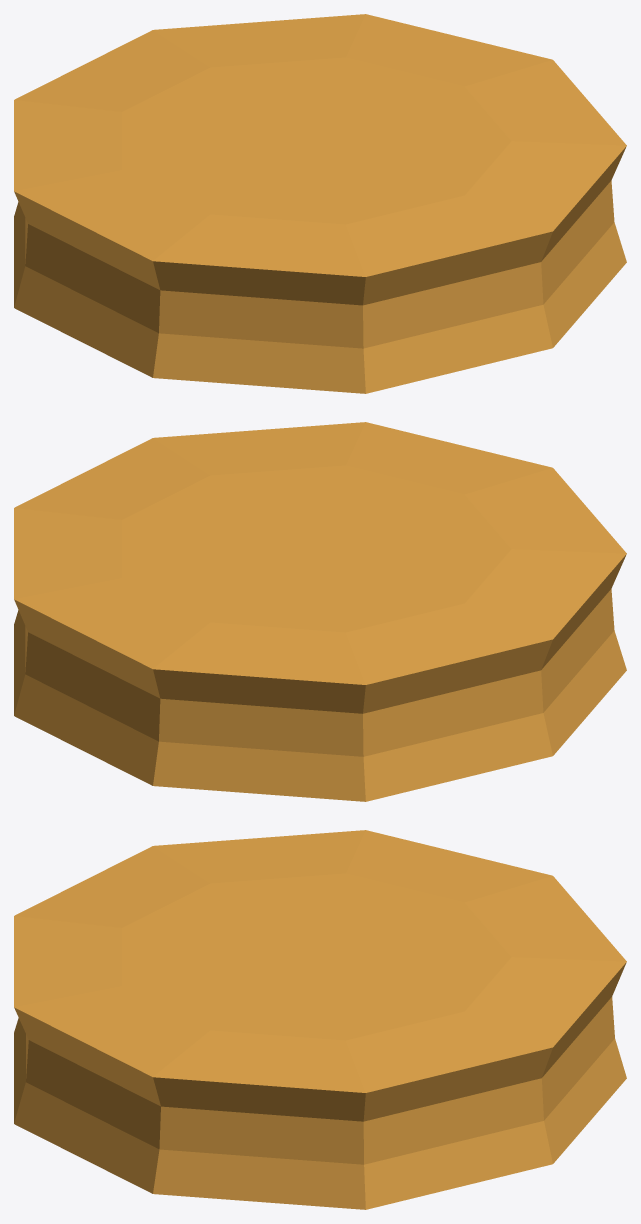
The model's file is food-cookie-oreo.glb.
3 views of the same model, one above another, from view 1: azimuth 30°, elevation 25°; view 2: azimuth 150°, elevation 25°; view 3: azimuth 270°, elevation 25° (orthographic).
Visible parts, largest first — view 1: cookie-oreo; view 2: cookie-oreo; view 3: cookie-oreo.
Part boxes in pixels (<box>): cookie-oreo: <box>14,14,626,393</box>; cookie-oreo: <box>14,422,626,801</box>; cookie-oreo: <box>14,830,626,1209</box>.
Bounding box in the file's own units: 0.0985 × 0.0226 × 0.097.
